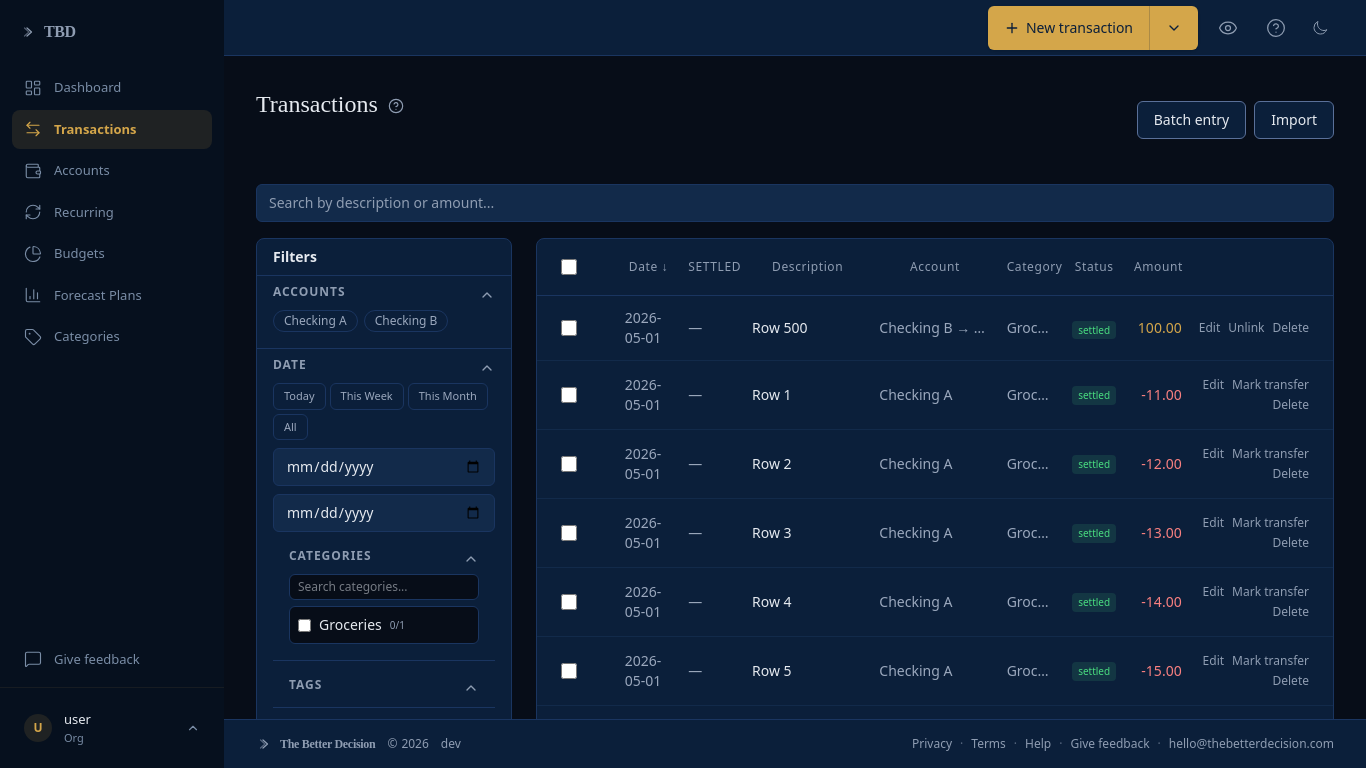
Scenario: TransactionsPage — transfer collapse (TBD-268) › F5: select-all covers every rendered row
The width and height of the screenshot is (1366, 768).
Click the checkbox named "Select all on page".
click(569, 267)  # box 561,259 -> 577,275
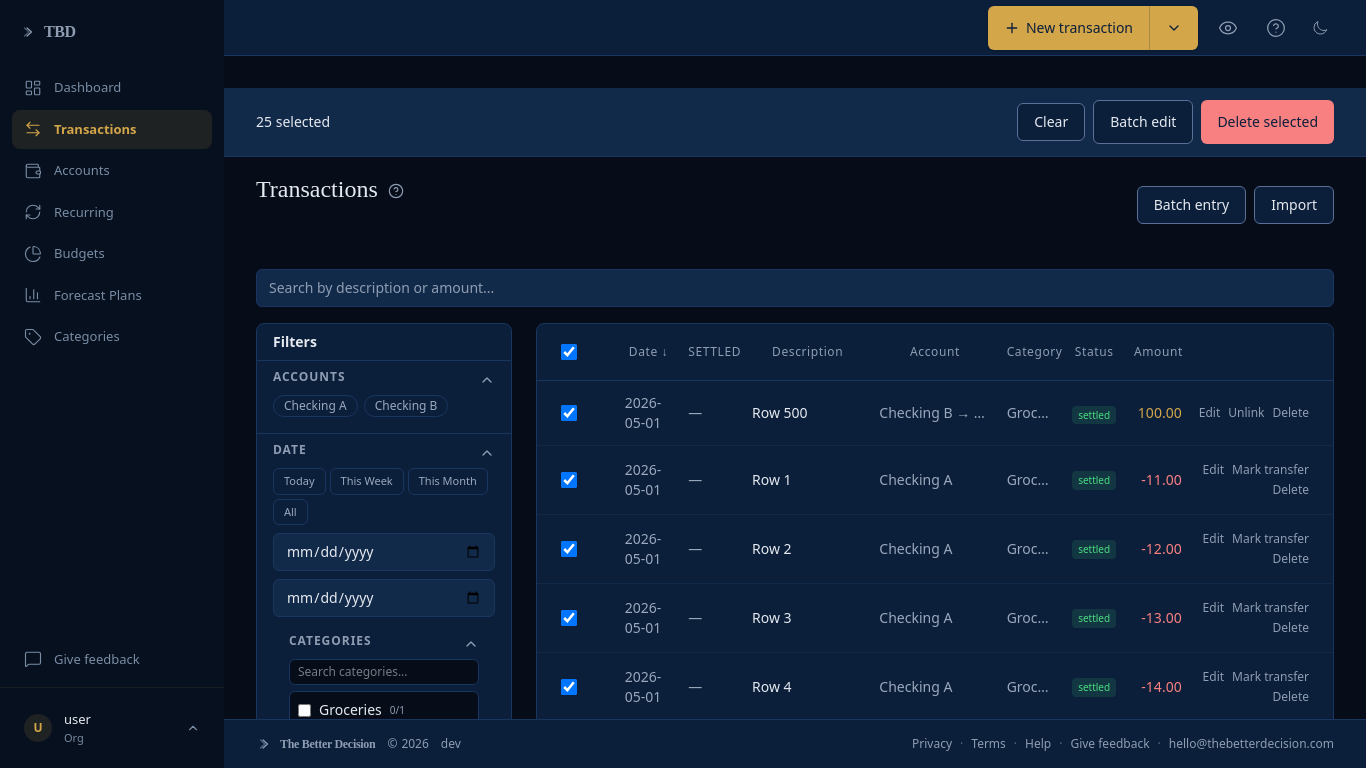
Check: the text "25 selected" is shown, box 256,112 -> 330,132
